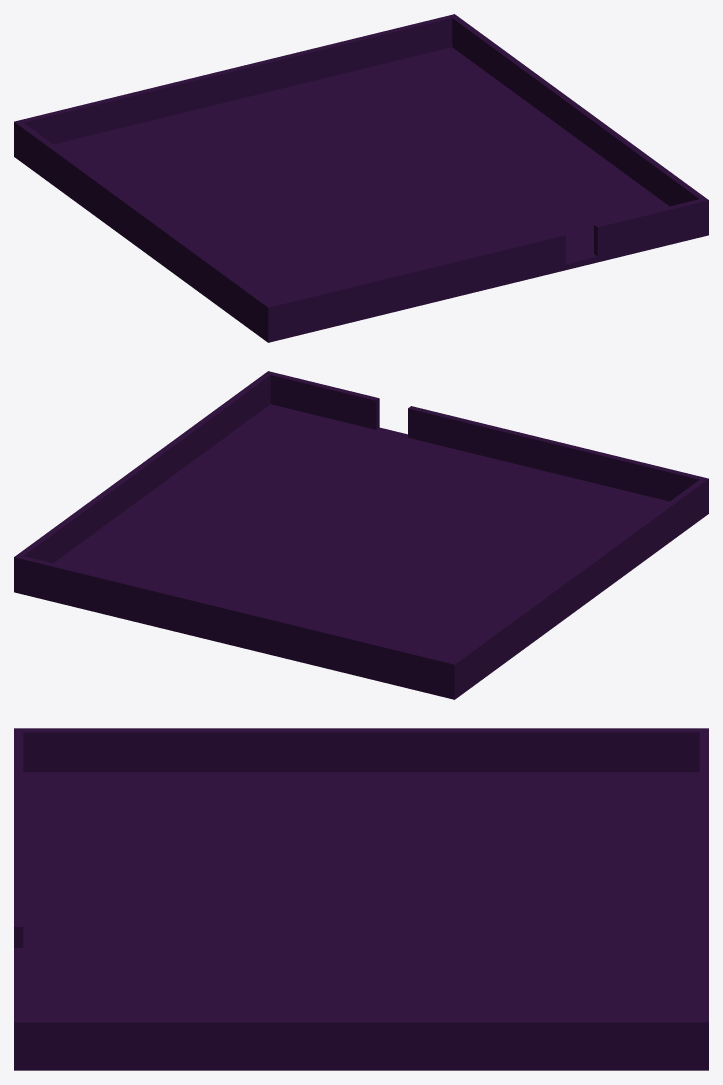
Rendered from floor.fbx.
3 views of the same model, one above another, from view 1: azimuth 30°, elevation 25°; view 2: azimuth 150°, elevation 25°; view 3: azimuth 270°, elevation 25° (orthographic). The views are drawn at different scales.
Visible parts, largest first — view 1: pCube1; view 2: pCube1; view 3: pCube1.
Boxes of the visible parts, x1,y1,x2,y2 form: pCube1: [14, 14, 708, 342]; pCube1: [14, 371, 708, 699]; pCube1: [14, 728, 708, 1070].
Bounding box in the file's own units: 6830 × 521 × 6823.
